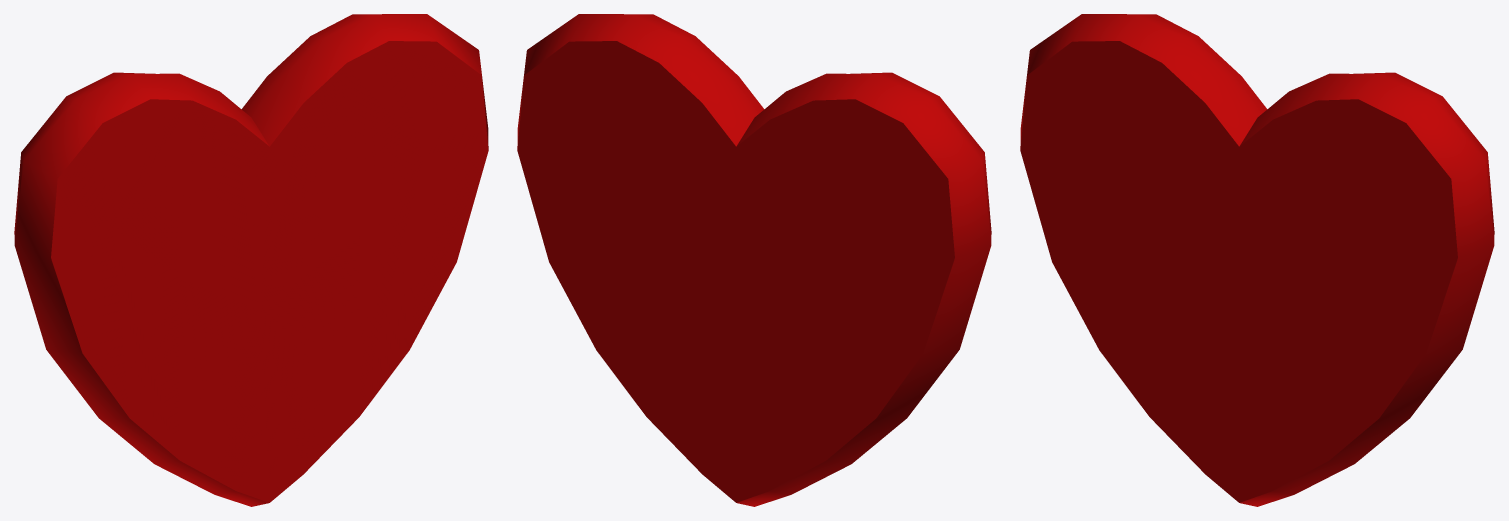
The model's file is HEART.fbx.
3 views of the same model, side by side, from view 1: azimuth 30°, elevation 25°; view 2: azimuth 150°, elevation 25°; view 3: azimuth 330°, elevation 25° (orthographic).
Parts seen in each view (by area): view 1: HEART; view 2: HEART; view 3: HEART.
Part boxes in pixels (box(x1,y1,x2,y2)): HEART: box(14, 14, 488, 506); HEART: box(517, 14, 991, 506); HEART: box(1020, 14, 1494, 506).
Bounding box in the file's own units: 1.47 × 1.37 × 0.1966.
